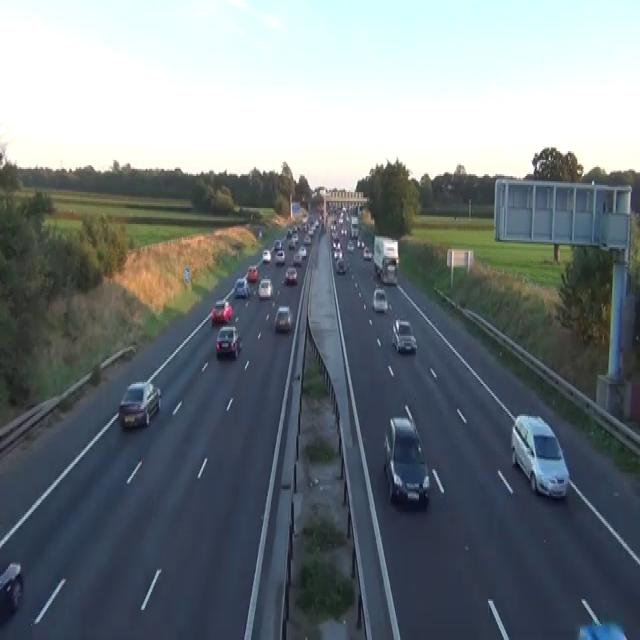Car: (511, 412, 569, 500), (383, 414, 430, 505), (118, 381, 161, 428), (0, 562, 23, 620), (391, 318, 417, 354), (577, 620, 629, 638), (215, 325, 242, 359), (210, 298, 232, 324), (274, 304, 292, 332), (380, 260, 398, 284), (372, 288, 387, 313), (383, 242, 399, 263), (233, 277, 249, 297), (258, 277, 272, 299), (284, 266, 297, 284), (333, 242, 343, 260), (247, 265, 258, 281), (336, 258, 346, 274), (275, 249, 285, 263), (363, 246, 372, 260), (292, 251, 301, 265), (261, 249, 271, 261), (346, 240, 354, 252), (299, 245, 306, 258), (273, 238, 281, 249), (357, 238, 365, 249), (350, 226, 358, 236), (288, 238, 295, 249), (303, 234, 311, 243), (286, 228, 292, 238), (340, 226, 346, 236), (331, 230, 338, 238), (292, 233, 298, 242), (314, 218, 319, 228), (308, 226, 314, 234), (258, 228, 262, 238)
Truck: (373, 234, 399, 284), (350, 215, 359, 238)
